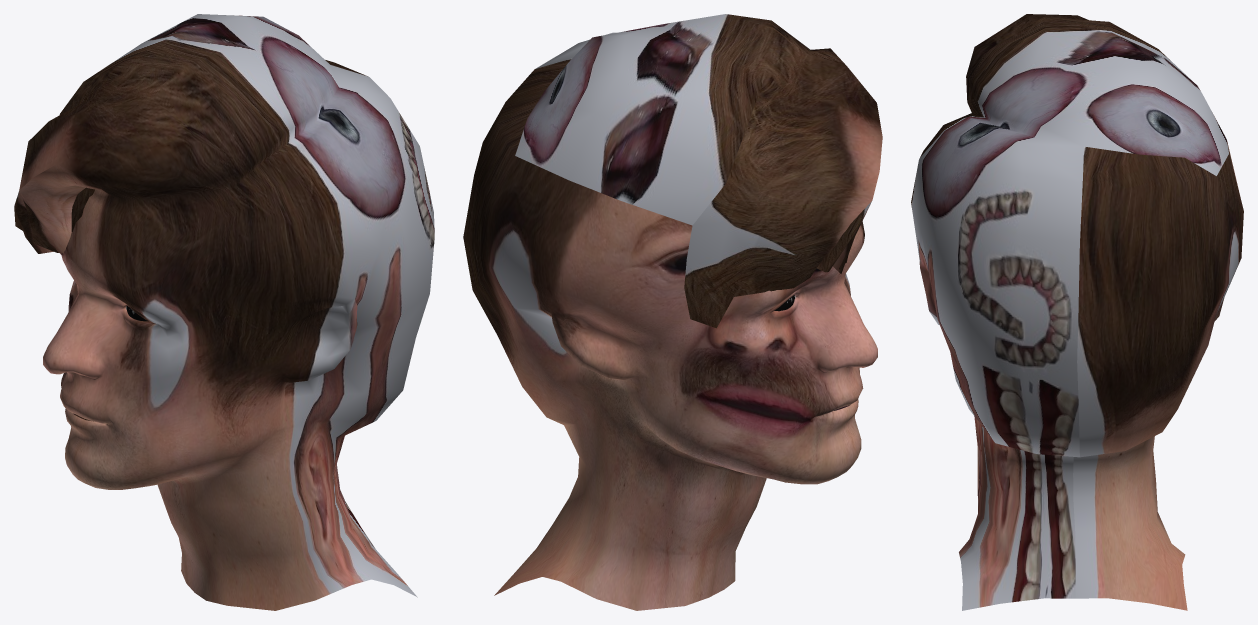
The model's file is ProfesorHead.obj.
3 renders of one model, left to right at view 1: azimuth 30°, elevation 25°; view 2: azimuth 150°, elevation 25°; view 3: azimuth 270°, elevation 25°, orthographic. The views are drawn at different scales.
Visible parts, largest first — view 1: ProfesorHead; view 2: ProfesorHead; view 3: ProfesorHead.
Part boxes in pixels (x1,y1,x2,y2): ProfesorHead: (14, 14, 434, 610); ProfesorHead: (463, 14, 882, 610); ProfesorHead: (911, 14, 1243, 610).
Size of the model in its own units: 0.319 by 0.4394 by 0.26.
